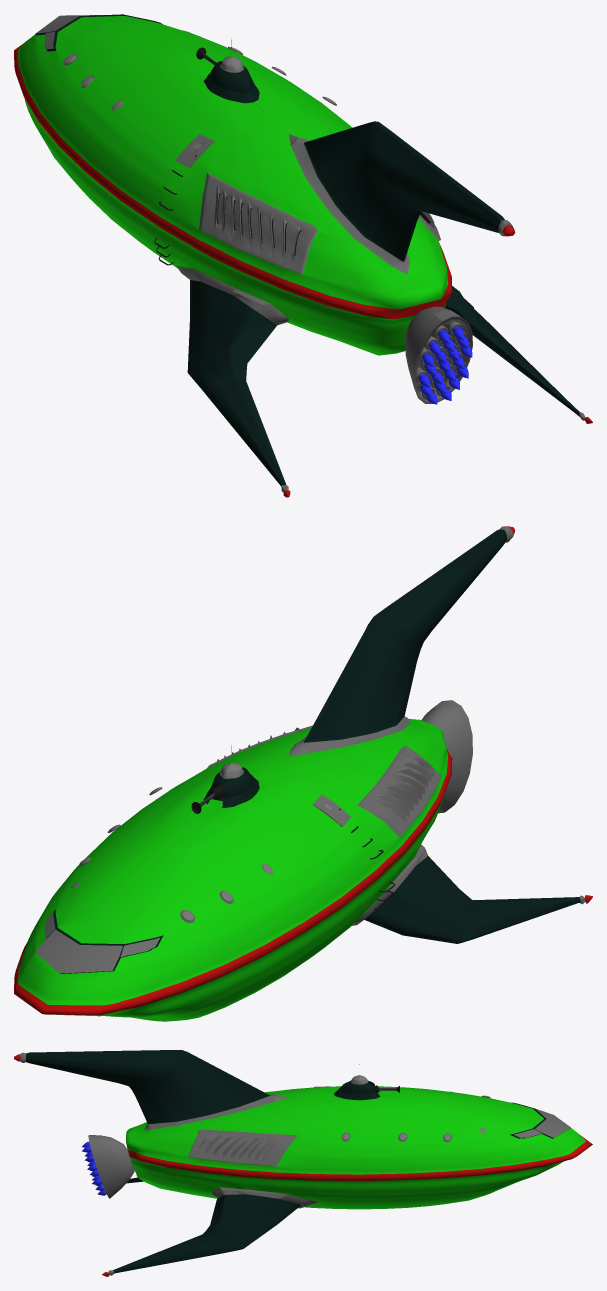
The model's file is futureship.FBX.
3 views of the same model, one above another, from view 1: azimuth 30°, elevation 25°; view 2: azimuth 150°, elevation 25°; view 3: azimuth 270°, elevation 25° (orthographic). The views are drawn at different scales.
Parts seen in each view (by area): view 1: Haul, rockets, door; view 2: Haul; view 3: Haul, rockets.
Part boxes in pixels (x1,y1,x2,y2): Haul: (14,14,592,497); rockets: (415,321,472,404); door: (175,134,214,167); Haul: (14,526,592,1021); Haul: (14,1050,592,1276); rockets: (82,1141,106,1195).
Bounding box in the file's own units: 22.36 × 20.62 × 59.77.
